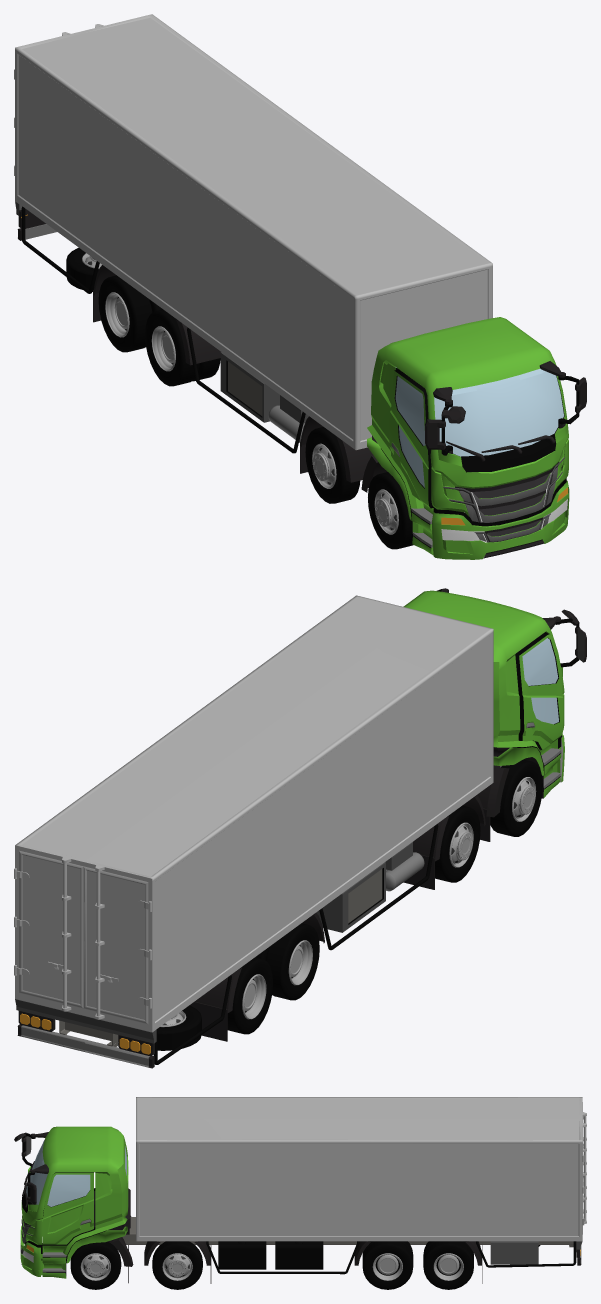
Rendered from triangle_faced_with_brakes.gltf.
The picture shows the model from 3 angles, top to bottom: view 1: azimuth 30°, elevation 25°; view 2: azimuth 150°, elevation 25°; view 3: azimuth 270°, elevation 25°; orthographic projection. The views are drawn at different scales.
Parts seen in each view (by area): view 1: Truck_body_Truck_body.L, Truck_head_Truck_head.L, Truck_door.R, WheelBackTop, WheelBackMiddle, WheelFrontMiddle, WheelFrontTop, Truck_Toolbox1, Truck_backmirror.L, Truck_Brakesys, WheelReserve, Truck_backmirror.R; view 2: Truck_body_Truck_body.L, Truck_head_Truck_head.L, Truck_door.R, WheelBackMiddle, WheelFrontTop, WheelBackTop, WheelFrontMiddle, Truck_Toolbox1, WheelReserve, Truck_Brakesys, Truck_backmirror.L; view 3: Truck_body_Truck_body.L, Truck_head_Truck_head.L, Truck_door.L, WheelBackMiddle, WheelBackTop, WheelFrontMiddle, WheelFrontTop, Truck_Fueltank02, Truck_Fueltank01, Truck_Toolbox, Truck_backmirror.L, Truck_backmirror.R.
Boxes of the visible parts, x1,y1,x2,y2 form: Truck_body_Truck_body.L: (14,14,492,482); Truck_head_Truck_head.L: (361,317,569,559); Truck_door.R: (389,369,433,508); WheelBackTop: (98,275,162,352); WheelBackMiddle: (145,309,220,386); WheelFrontMiddle: (305,427,360,503); WheelFrontTop: (368,472,413,549); Truck_Toolbox1: (220,352,279,422); Truck_backmirror.L: (425,387,465,455); Truck_Brakesys: (268,395,308,442); WheelReserve: (66,247,101,291); Truck_backmirror.R: (539,361,586,428); Truck_body_Truck_body.L: (14,595,493,1068); Truck_head_Truck_head.L: (403,590,564,841); Truck_door.R: (515,633,563,749); WheelBackMiddle: (255,923,319,1000); WheelFrontTop: (490,759,542,836); WheelBackTop: (227,957,273,1034); WheelFrontMiddle: (435,805,480,882); Truck_Toolbox1: (316,862,385,932); WheelReserve: (156,1005,201,1050); Truck_Brakesys: (385,842,424,891); Truck_backmirror.L: (542,609,586,667); Truck_body_Truck_body.L: (122,1097,586,1283); Truck_head_Truck_head.L: (20,1126,133,1283); Truck_door.L: (42,1172,93,1244); WheelBackMiddle: (362,1241,413,1289); WheelBackTop: (423,1241,473,1289); WheelFrontMiddle: (152,1241,202,1289); WheelFrontTop: (70,1241,121,1289); Truck_Fueltank02: (275,1241,323,1269); Truck_Fueltank01: (218,1241,266,1269); Truck_Toolbox: (490,1241,538,1264); Truck_backmirror.L: (14,1132,48,1169); Truck_backmirror.R: (27,1164,48,1204).
Size of the model in its own units: 1.98 by 2.6 by 9.04.
